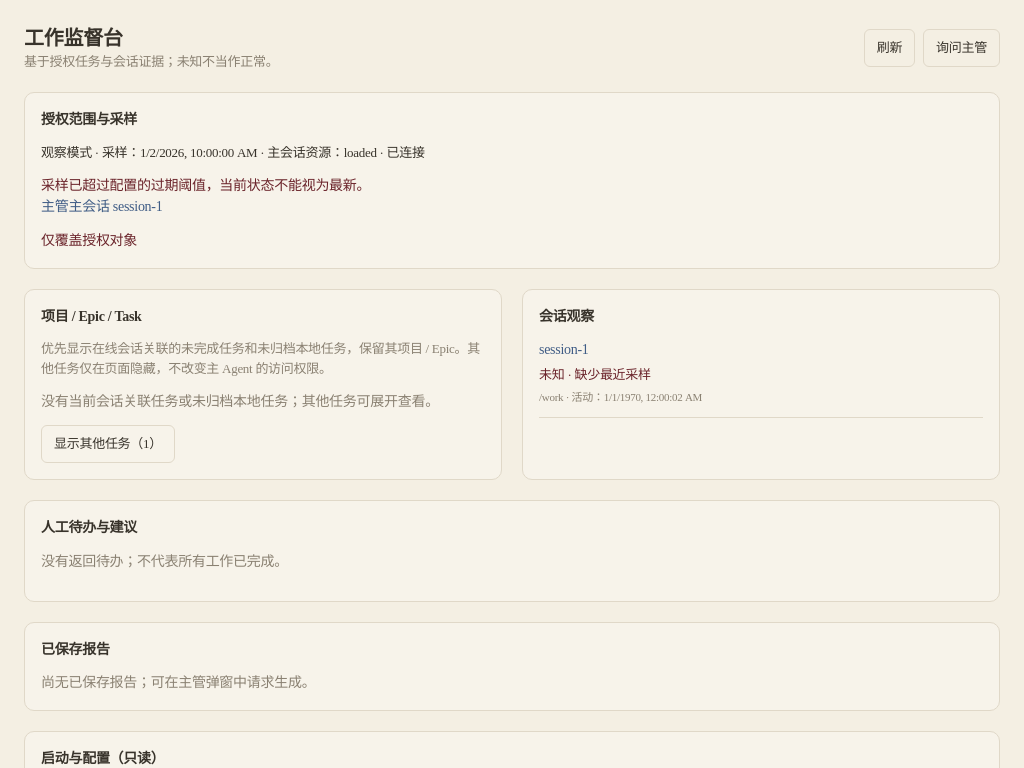
Scenario: 本地观察状态与来源事实分开展示，不把转述当作独立核实
Click the button "显示其他任务（1）" at (108, 444), box [41,425,175,463]
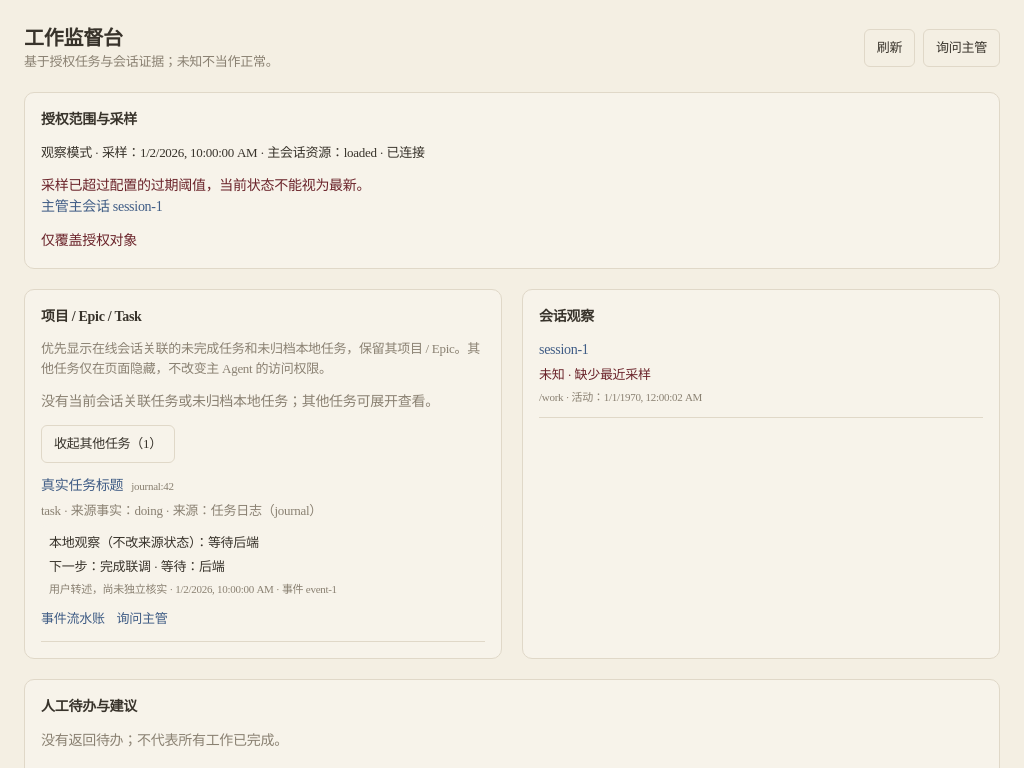
Check: the text "本地观察（不改来源状态）：等待后端" is shown, box [49,535,259,550]
Check: the text "用户转述，尚未独立核实 · 1/2/2026, 10:00:00 AM · 事件 event-1" is shown, box [49,583,337,595]
Check: the text "task · 来源事实：doing · 来源：任务日志（journal）" is shown, box [41,503,322,518]
